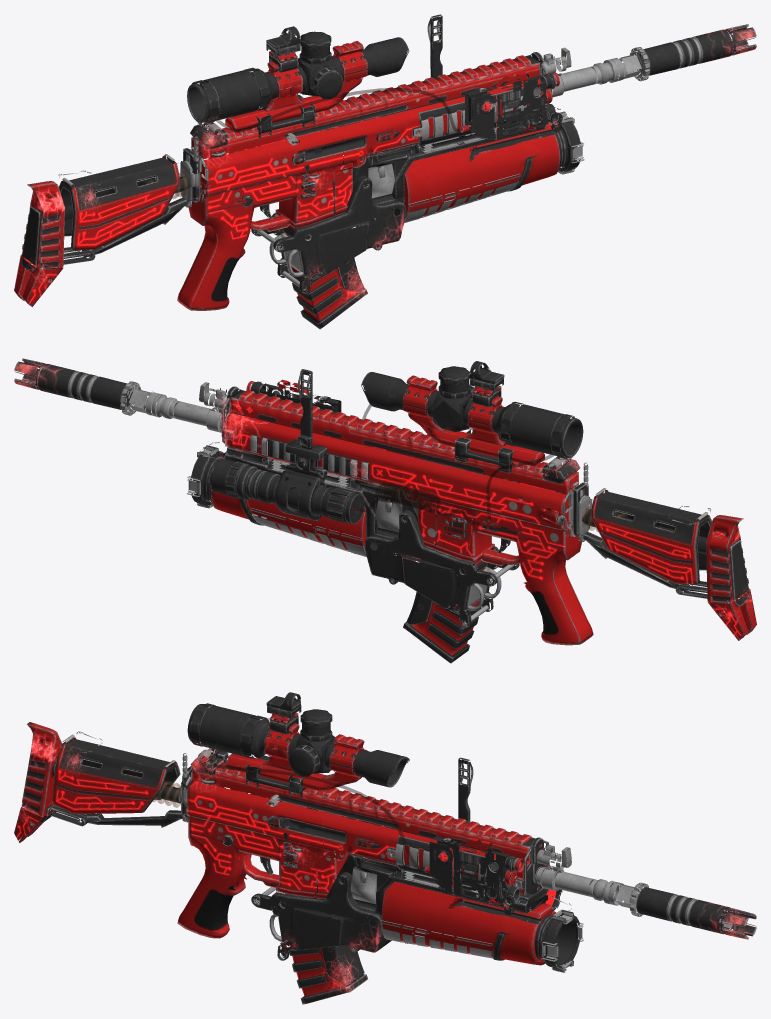
File: Rifle_Titan.glb
3 views of the same model, one above another, from view 1: azimuth 30°, elevation 25°; view 2: azimuth 150°, elevation 25°; view 3: azimuth 330°, elevation 25° (orthographic).
Visible parts, largest first — view 1: Rifle_Titan; view 2: Rifle_Titan; view 3: Rifle_Titan.
Boxes of the visible parts, x1,y1,x2,y2 form: Rifle_Titan: (14, 14, 756, 329); Rifle_Titan: (14, 358, 756, 663); Rifle_Titan: (14, 692, 756, 1004).
Size of the model in its own units: 5.25 by 2.06 by 0.6667.
Materials: 5 (5 with a texture image).
